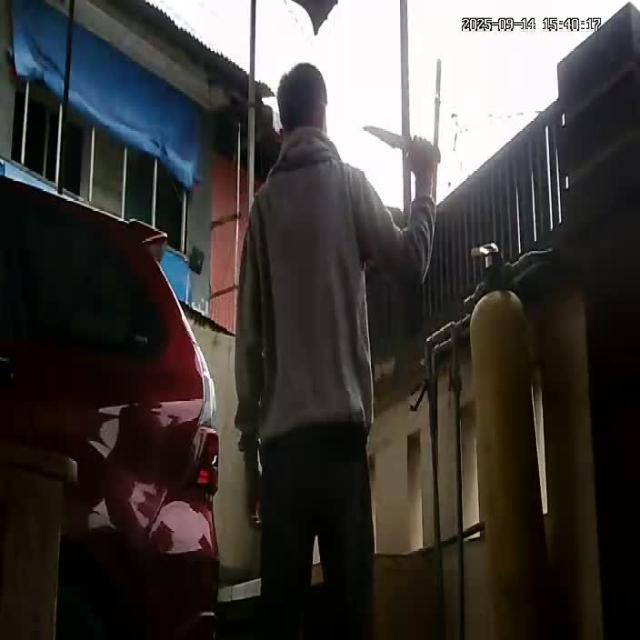senjata_tajam: (360, 123, 410, 154)
